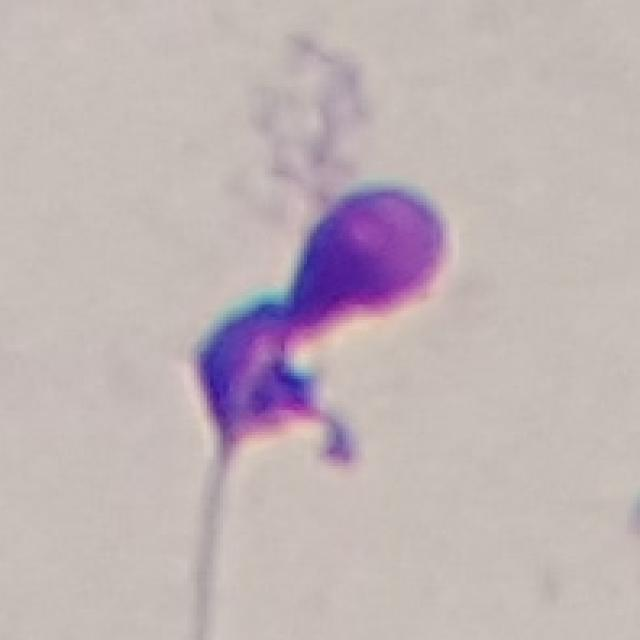abnormal sperm: (164, 145, 450, 625)
